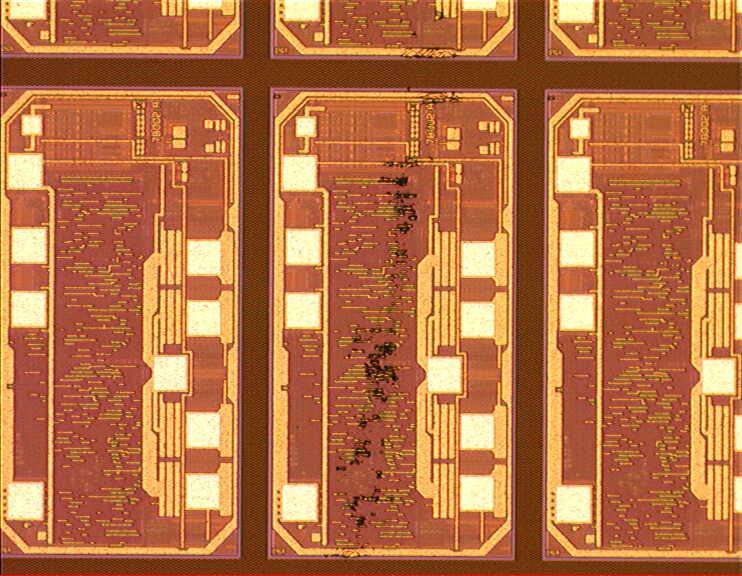SCRATCH: (326, 8, 465, 561)
